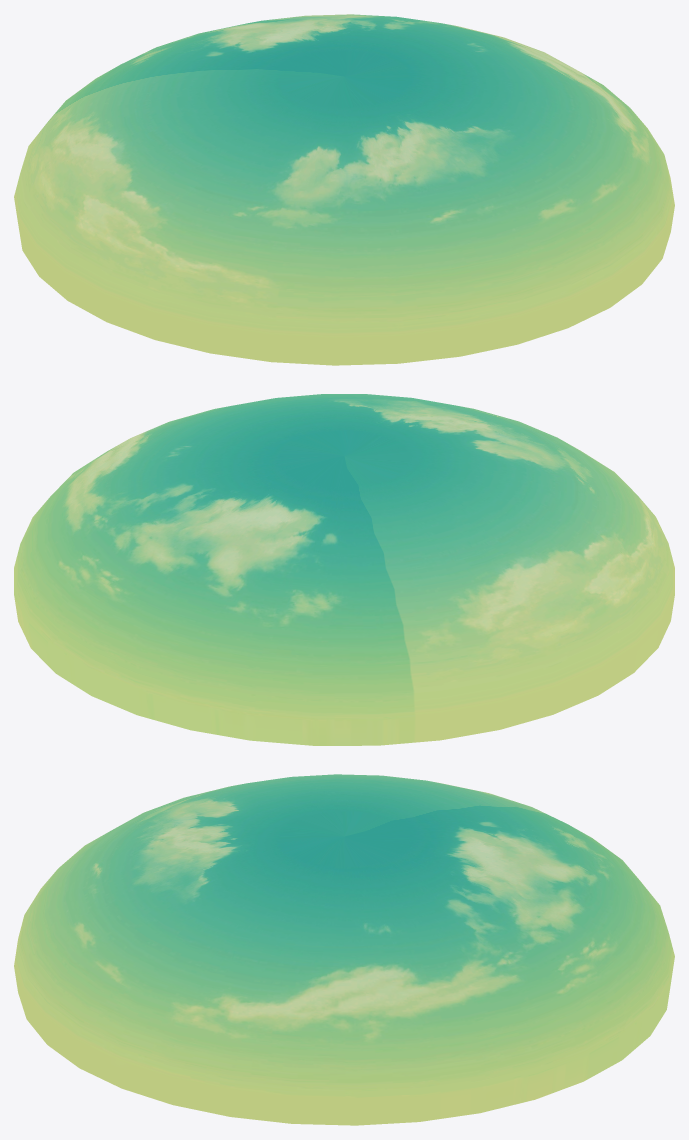
File: stage.glb
3 renders of one model, top to bottom at view 1: azimuth 30°, elevation 25°; view 2: azimuth 150°, elevation 25°; view 3: azimuth 270°, elevation 25°, orthographic.
Visible parts, largest first — view 1: KORE_export_Planet Namek_mesh; view 2: KORE_export_Planet Namek_mesh; view 3: KORE_export_Planet Namek_mesh.
Part boxes in pixels (left/top/right/bottom): KORE_export_Planet Namek_mesh: left=14, top=14, right=674, bottom=365; KORE_export_Planet Namek_mesh: left=14, top=394, right=674, bottom=745; KORE_export_Planet Namek_mesh: left=14, top=774, right=674, bottom=1125.
Bounding box in the file's own units: 25.97 × 6.55 × 25.97.
Materials: 17 (17 with a texture image).
